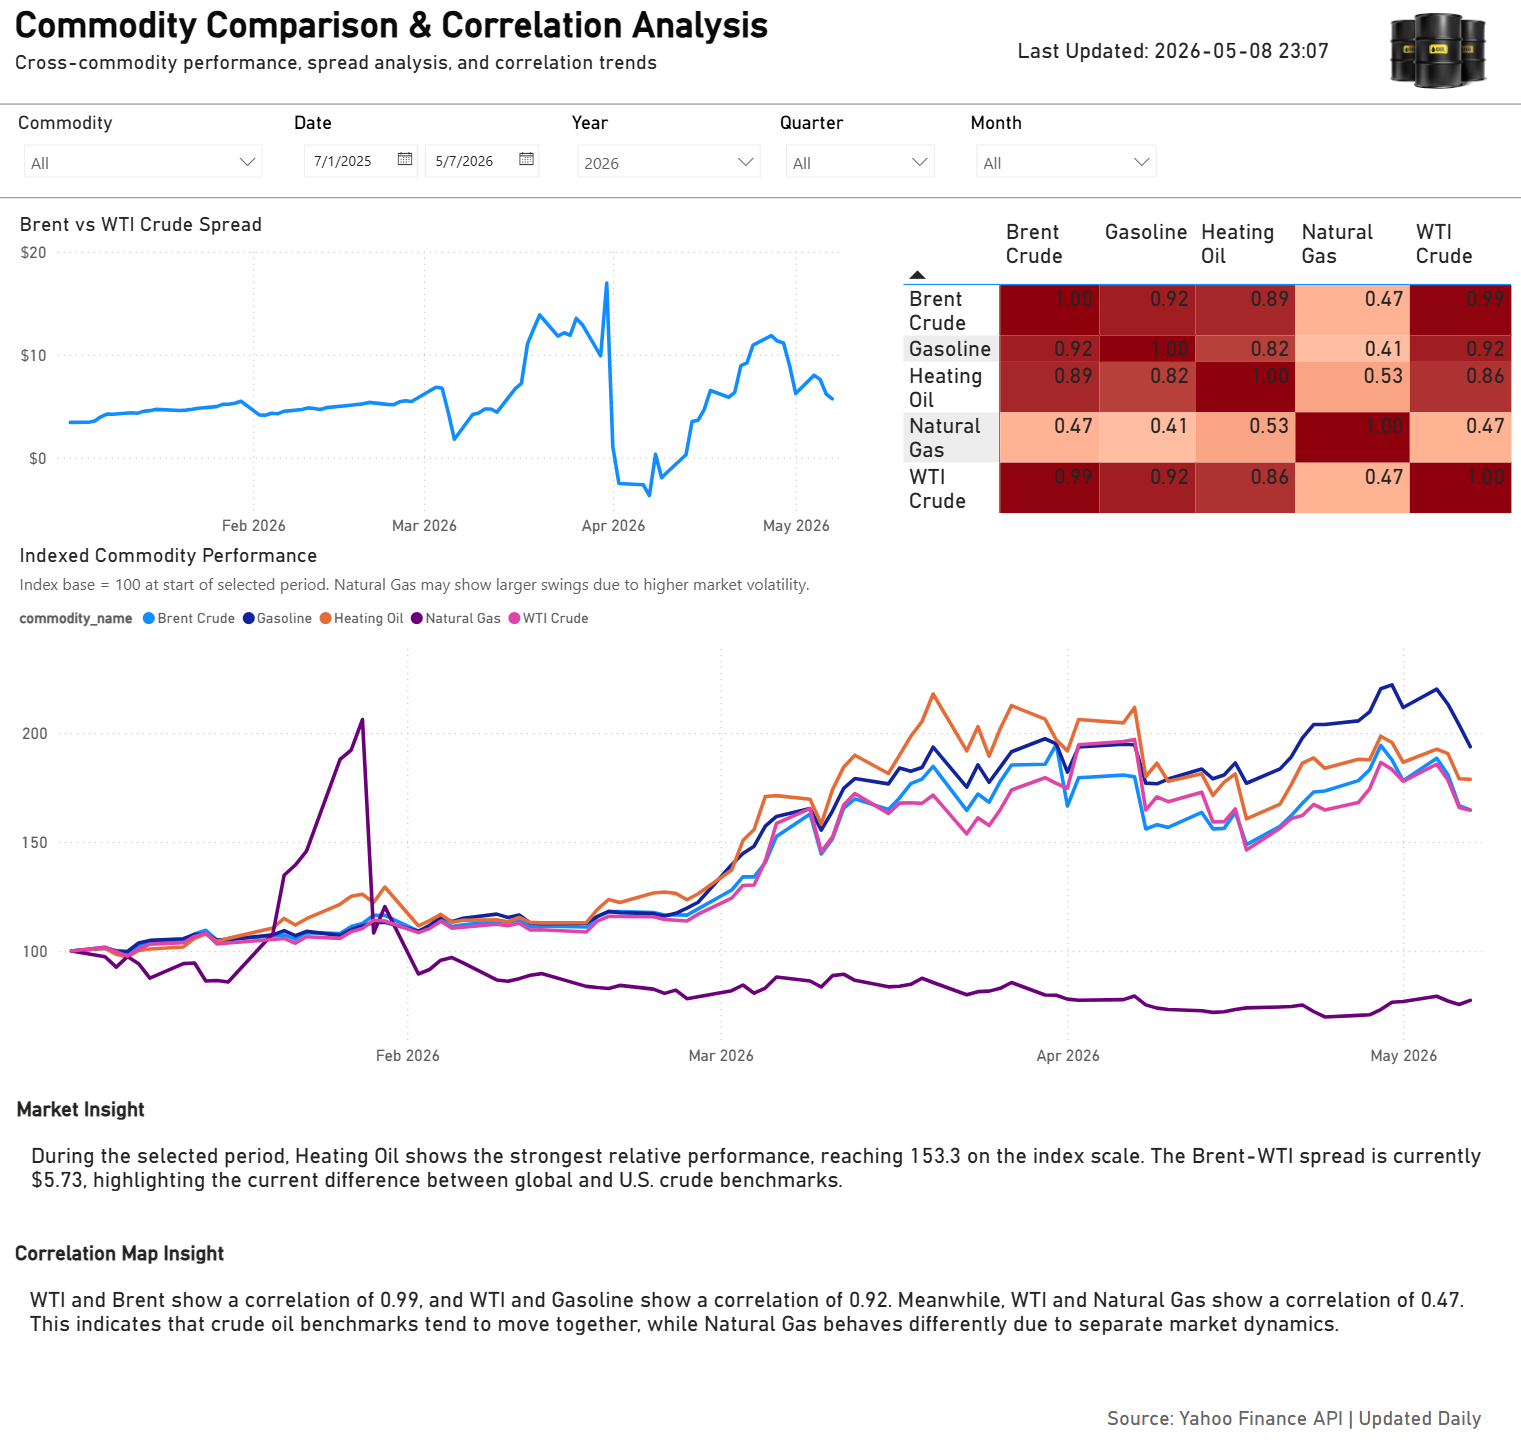

The dashboard page shown, as its layout file describes it:
{"tool":"powerbi","page":{"name":"Commodity Comparison","canvas":[1280,1216],"ordinal":2},"visuals":[{"type":"shape","box":[0,166.7,1280,1048.3],"z":0},{"type":"image","box":[1126.2,0,153.8,90],"z":1000},{"type":"shape","box":[0,0,1280,90],"z":2000},{"type":"shape","box":[0,88.8,1280,79],"z":3000},{"type":"slicer","title":"Date","fields":{"Values":["dim_date.full_date"]},"box":[242.8,94.7,218.3,63.3],"z":4000},{"type":"slicer","title":"Commodity","fields":{"Values":["dim_commodity.commodity_name"]},"box":[12,94.7,218.6,62.9],"z":5000},{"type":"textbox","title":"Commodity Comparison & Correlation Analysis","box":[10,5,718.3,73.3],"z":6000},{"type":"slicer","title":"Year","fields":{"Values":["dim_date.full_date.Variation.Date Hierarchy.Year"]},"box":[473.8,95,172.5,62.5],"z":7000},{"type":"slicer","title":"Quarter","fields":{"Values":["dim_date.full_date.Variation.Date Hierarchy.Quarter"]},"box":[647.2,95,143.8,62.5],"z":8000},{"type":"slicer","title":"Month","fields":{"Values":["dim_date.full_date.Variation.Date Hierarchy.Month"]},"box":[806,95,170,62.5],"z":9000},{"type":"cardVisual","fields":{"Data":["Indicators.Last Refresh"]},"box":[821.2,15,331.2,57.5],"z":10000},{"type":"textbox","title":"Source: Yahoo Finance API | Updated Daily","box":[920,1173.3,356.7,28.3],"z":11000},{"type":"lineChart","title":"Brent vs WTI Crude Spread","fields":{"Category":["dim_date.full_date.Variation.Date Hierarchy.Year","dim_date.full_date.Variation.Date Hierarchy.Quarter","dim_date.full_date.Variation.Date Hierarchy.Month","dim_date.full_date.Variation.Date Hierarchy.Day"],"Y":["Indicators.Brent - WTI Spread"]},"box":[13.3,178.3,715,276.7],"z":12000},{"type":"lineChart","title":"Indexed Commodity Performance","fields":{"Category":["dim_date.full_date.Variation.Date Hierarchy.Year","dim_date.full_date.Variation.Date Hierarchy.Quarter","dim_date.full_date.Variation.Date Hierarchy.Month","dim_date.full_date.Variation.Date Hierarchy.Day"],"Y":["Indicators.Indexed Close Price"],"Series":["dim_commodity.commodity_name"]},"box":[13.3,455,1246.7,441.7],"z":13000},{"type":"cardVisual","title":"Market Insight","fields":{"Data":["Indicators.Commodity Comparison Insight"]},"box":[11.7,916.7,1248.3,118.3],"z":14000},{"type":"pivotTable","fields":{"Rows":["commodity_correlation.commodity_1"],"Columns":["commodity_correlation.commodity_2"],"Values":["Sum(commodity_correlation.correlation)"]},"box":[750,178.3,530,276.7],"z":15000},{"type":"cardVisual","title":"Correlation Map Insight","fields":{"Data":["Indicators.Commodity Comparison Insight Correlation"]},"box":[10,1035.7,1250,138.6],"z":16000}]}

Visuals, with their boxes in screenshot pixels (x1, y1, x2, y2), scaled from the page's 1280x1216 canvas onto the 1521x1443 screenshot:
shape: [0,198,1520,1442]
image: [1338,0,1520,107]
shape: [0,0,1520,107]
shape: [0,105,1520,199]
"Date" slicer: [289,112,548,187]
"Commodity" slicer: [14,112,274,187]
"Commodity Comparison & Correlation Analysis" textbox: [12,6,865,93]
"Year" slicer: [563,113,768,187]
"Quarter" slicer: [769,113,940,187]
"Month" slicer: [958,113,1160,187]
cardVisual - Indicators.Last Refresh: [976,18,1369,86]
"Source: Yahoo Finance API | Updated Daily" textbox: [1093,1392,1517,1426]
"Brent vs WTI Crude Spread" lineChart: [16,212,865,540]
"Indexed Commodity Performance" lineChart: [16,540,1497,1064]
"Market Insight" cardVisual: [14,1088,1497,1228]
pivotTable - commodity_correlation.commodity_1 x commodity_correlation.commodity_2: [891,212,1520,540]
"Correlation Map Insight" cardVisual: [12,1229,1497,1394]
